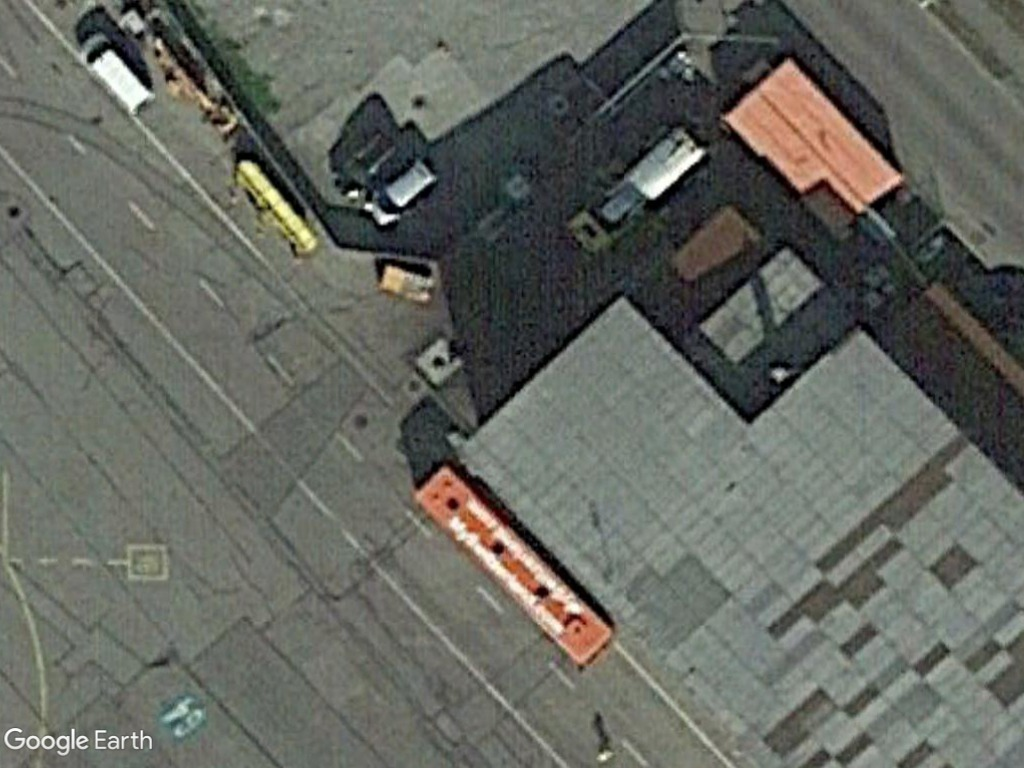bus: (407, 463, 619, 679)
car: (366, 154, 442, 228)
van: (73, 31, 158, 119)
